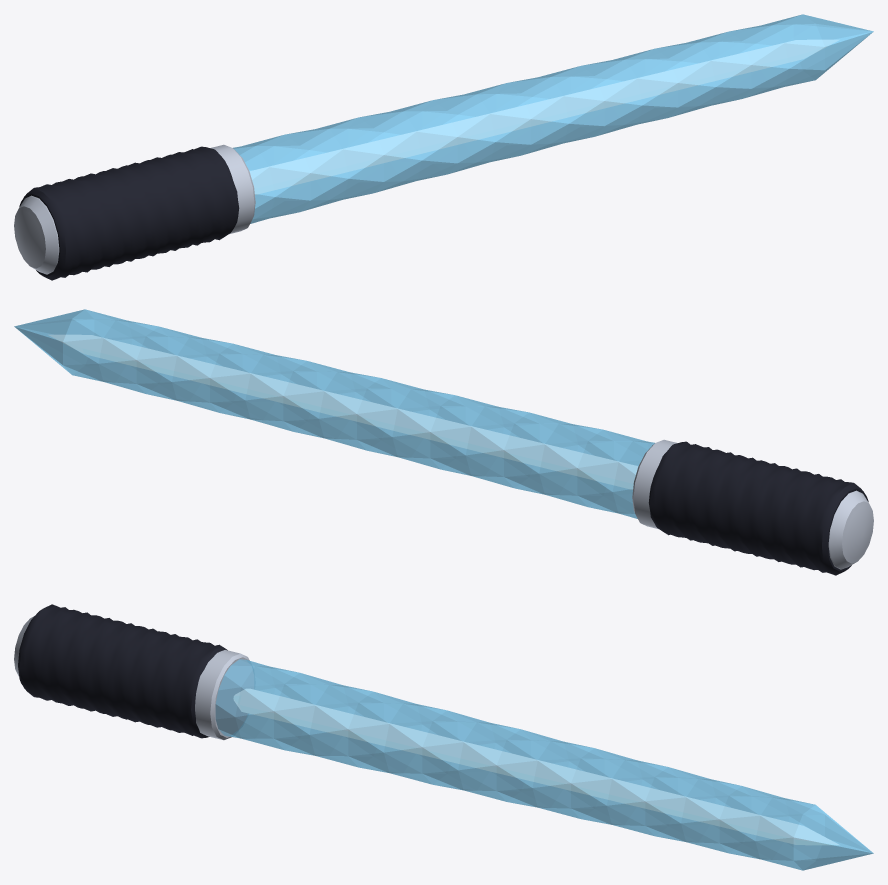
Rendered from danda-crystal.glb.
The picture shows the model from 3 angles, top to bottom: view 1: azimuth 30°, elevation 25°; view 2: azimuth 150°, elevation 25°; view 3: azimuth 330°, elevation 25°; orthographic projection.
Visible parts, largest first — view 1: DandaCrystal_Crystal, DandaCrystal_Grip, DandaCrystal_Core, DandaCrystal_Fittings; view 2: DandaCrystal_Crystal, DandaCrystal_Grip, DandaCrystal_Core, DandaCrystal_Fittings; view 3: DandaCrystal_Crystal, DandaCrystal_Grip, DandaCrystal_Core, DandaCrystal_Fittings.
Part boxes in pixels (box(x1,y1,x2,y2)): DandaCrystal_Crystal: box(233, 14, 873, 223); DandaCrystal_Grip: box(19, 146, 239, 280); DandaCrystal_Core: box(250, 40, 838, 194); DandaCrystal_Fittings: box(14, 144, 255, 274); DandaCrystal_Crystal: box(14, 309, 654, 518); DandaCrystal_Grip: box(648, 441, 868, 575); DandaCrystal_Core: box(49, 335, 637, 489); DandaCrystal_Fittings: box(632, 439, 873, 569); DandaCrystal_Crystal: box(215, 659, 873, 870); DandaCrystal_Grip: box(18, 604, 227, 738); DandaCrystal_Core: box(233, 689, 838, 844); DandaCrystal_Fittings: box(14, 616, 254, 740).
Bounding box in the file's own units: 4.6 × 0.4489 × 0.4489.
